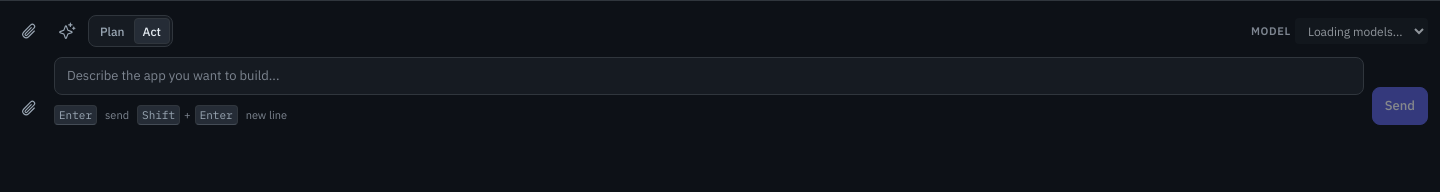
Composer › shows an error and keeps the text when sending fails
The width and height of the screenshot is (1440, 192).
In the text box: (709, 76) [54,57,1364,95], type "hello"
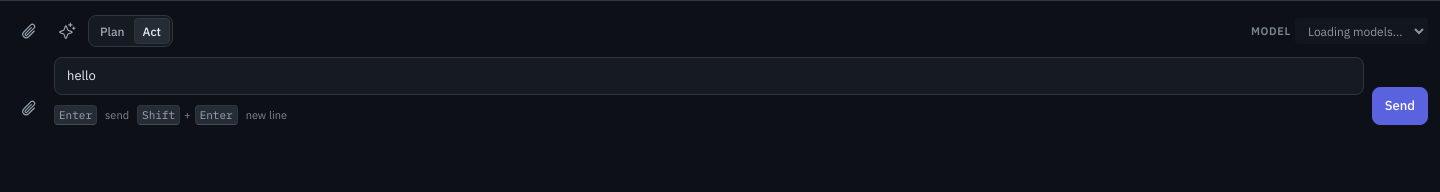
Click the button "Send": click(1400, 106) [1372,87,1428,125]
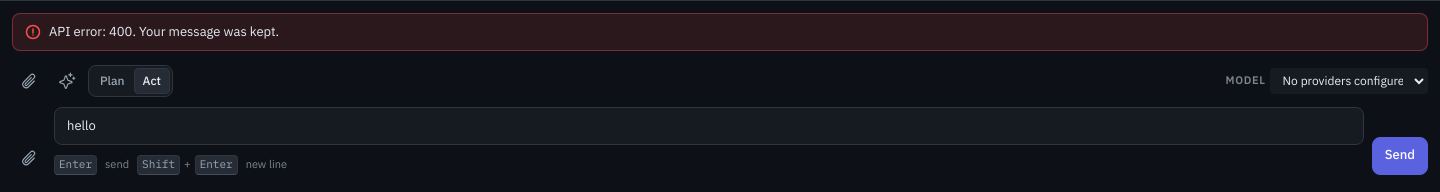
Expected: the message shows "API error: 400", [49,23,279,40]
